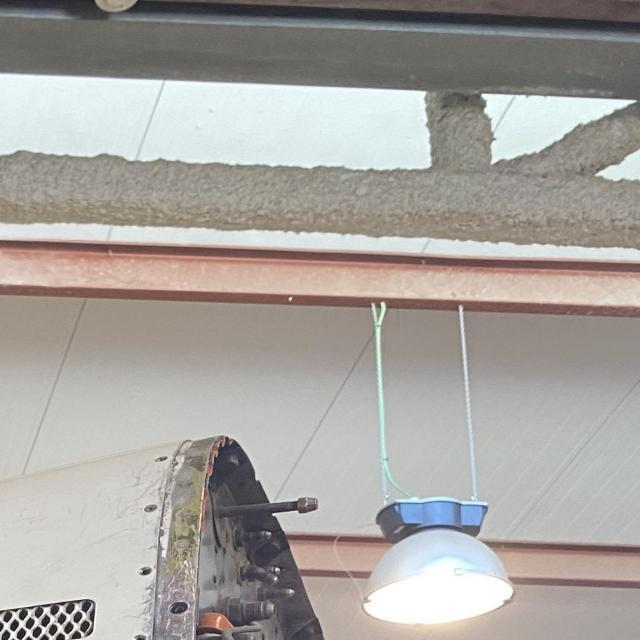Missing-head: (137, 566, 152, 577), (133, 633, 148, 640)
